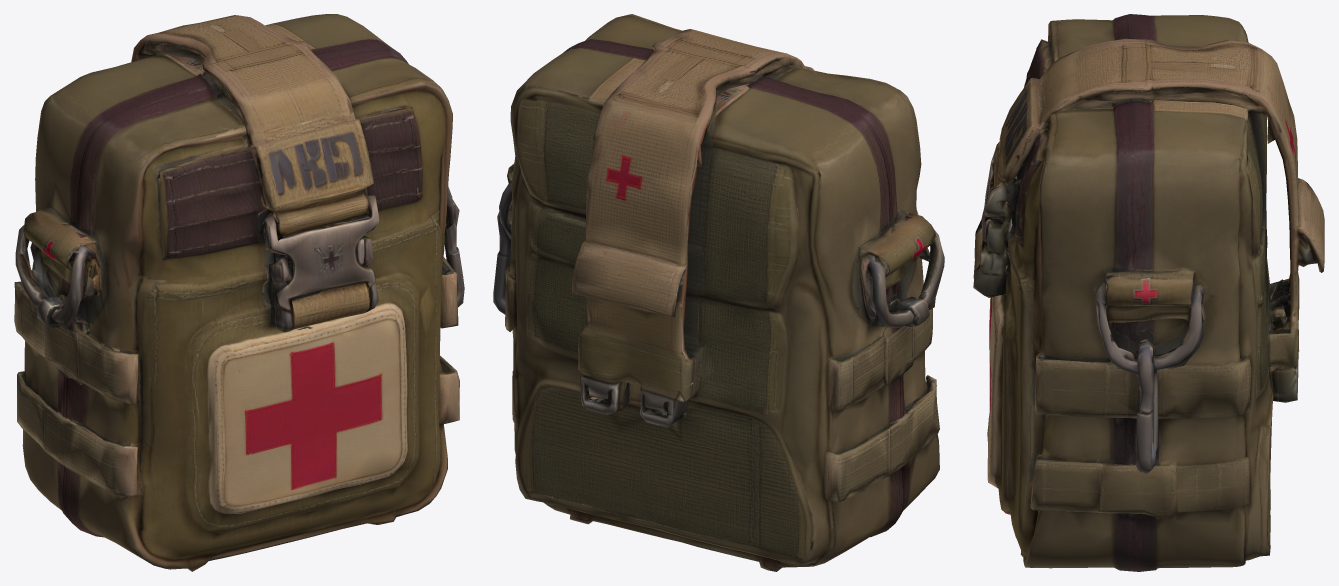
Rendered from medical_kit_bag.obj.
The picture shows the model from 3 angles, left to right: view 1: azimuth 30°, elevation 25°; view 2: azimuth 150°, elevation 25°; view 3: azimuth 270°, elevation 25°; orthographic projection. The views are drawn at different scales.
Visible parts, largest first — view 1: MedicalKitBag; view 2: MedicalKitBag; view 3: MedicalKitBag.
Boxes of the visible parts, x1,y1,x2,y2 form: MedicalKitBag: (14,14,464,571); MedicalKitBag: (493,14,944,571); MedicalKitBag: (973,14,1324,571).
Size of the model in its own units: 2 by 2 by 1.4.
Materials: 1 (1 with a texture image).
